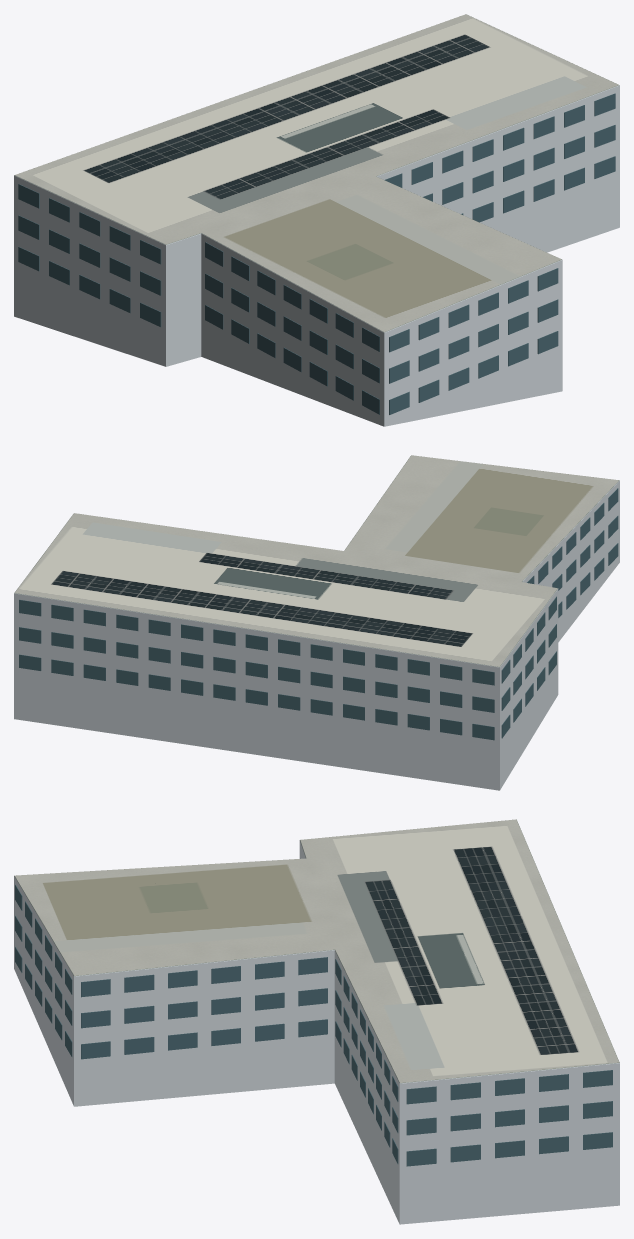
Rendered from fragments.glb.
3 views of the same model, one above another, from view 1: azimuth 30°, elevation 25°; view 2: azimuth 150°, elevation 25°; view 3: azimuth 270°, elevation 25° (orthographic). The views are drawn at different scales.
Parts seen in each view (by area): view 1: SM_agri_Fragment_001, SM_agri_Fragment_017, SM_agri_Fragment_012, SM_agri_Fragment_007, SM_agri_Fragment_037, SM_agri_Fragment_002, SM_agri_Fragment_036, SM_agri_Fragment_014, SM_agri_Fragment_053, SM_agri_Fragment_031, SM_agri_Fragment_039, SM_agri_Fragment_011 (+29 smaller); view 2: SM_agri_Fragment_028, SM_agri_Fragment_003, SM_agri_Fragment_009, SM_agri_Fragment_022, SM_agri_Fragment_029, SM_agri_Fragment_037, SM_agri_Fragment_023, SM_agri_Fragment_057, SM_agri_Fragment_011, SM_agri_Fragment_063, SM_agri_Fragment_041, SM_agri_Fragment_019 (+29 smaller); view 3: SM_agri_Fragment_048, SM_agri_Fragment_032, SM_agri_Fragment_015, SM_agri_Fragment_062, SM_agri_Fragment_004, SM_agri_Fragment_037, SM_agri_Fragment_059, SM_agri_Fragment_009, SM_agri_Fragment_000, SM_agri_Fragment_012, SM_agri_Fragment_011, SM_agri_Fragment_043 (+30 smaller).
Boxes of the visible parts, <box> form: SM_agri_Fragment_001: <box>333,311,439,426</box>; SM_agri_Fragment_017: <box>107,212,223,331</box>; SM_agri_Fragment_012: <box>438,254,562,359</box>; SM_agri_Fragment_007: <box>465,103,554,232</box>; SM_agri_Fragment_037: <box>308,251,449,338</box>; SM_agri_Fragment_002: <box>14,222,109,340</box>; SM_agri_Fragment_036: <box>213,250,294,378</box>; SM_agri_Fragment_014: <box>260,283,336,407</box>; SM_agri_Fragment_053: <box>507,71,619,150</box>; SM_agri_Fragment_031: <box>71,181,207,286</box>; SM_agri_Fragment_039: <box>533,122,619,230</box>; SM_agri_Fragment_011: <box>78,132,203,182</box>; SM_agri_Fragment_028: <box>80,586,180,690</box>; SM_agri_Fragment_003: <box>178,588,275,700</box>; SM_agri_Fragment_009: <box>14,576,92,680</box>; SM_agri_Fragment_022: <box>245,622,356,704</box>; SM_agri_Fragment_029: <box>431,635,523,734</box>; SM_agri_Fragment_037: <box>465,471,598,528</box>; SM_agri_Fragment_023: <box>103,683,203,746</box>; SM_agri_Fragment_057: <box>404,660,497,759</box>; SM_agri_Fragment_011: <box>356,603,475,675</box>; SM_agri_Fragment_063: <box>338,637,410,725</box>; SM_agri_Fragment_041: <box>268,694,351,767</box>; SM_agri_Fragment_019: <box>202,689,291,759</box>; SM_agri_Fragment_048: <box>450,1101,582,1215</box>; SM_agri_Fragment_032: <box>130,918,253,1031</box>; SM_agri_Fragment_015: <box>441,1037,574,1131</box>; SM_agri_Fragment_062: <box>59,945,197,1058</box>; SM_agri_Fragment_004: <box>211,927,327,1077</box>; SM_agri_Fragment_037: <box>27,868,174,941</box>; SM_agri_Fragment_059: <box>251,927,379,1008</box>; SM_agri_Fragment_009: <box>555,1029,619,1161</box>; SM_agri_Fragment_000: <box>382,1160,498,1224</box>; SM_agri_Fragment_012: <box>35,912,136,1014</box>; SM_agri_Fragment_011: <box>407,845,543,899</box>; SM_agri_Fragment_043: <box>355,959,484,1014</box>.
Size of the model in its own units: 2.2 by 0.5548 by 2.13.
5 materials, 1 textured.
